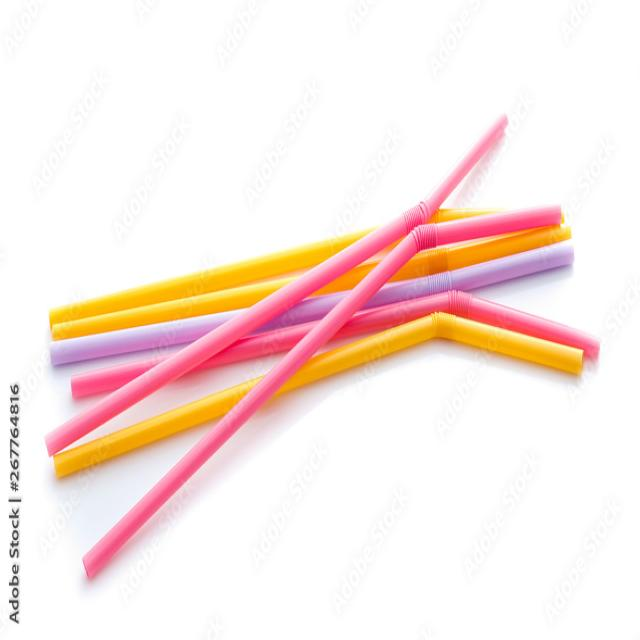plastic: (69, 200, 557, 591)
